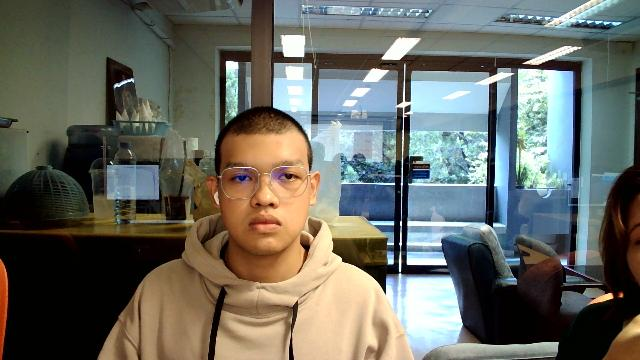fokus: (202, 104, 323, 255)
